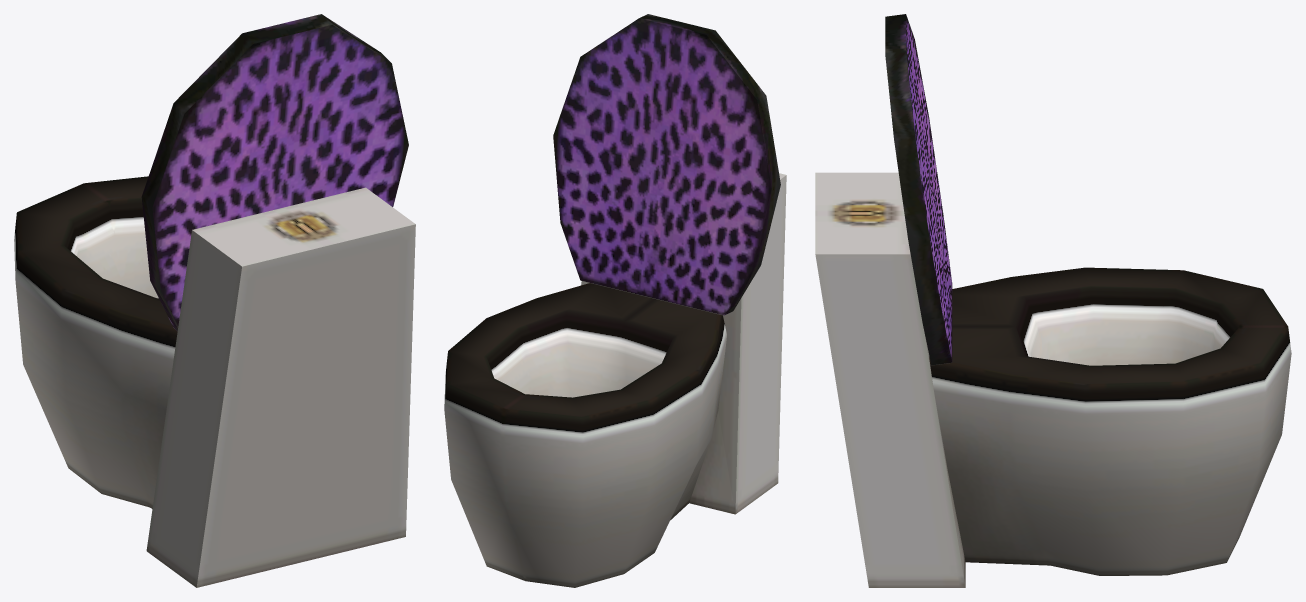
File: furni_0200084_03.FBX
3 views of the same model, side by side, from view 1: azimuth 30°, elevation 25°; view 2: azimuth 150°, elevation 25°; view 3: azimuth 270°, elevation 25° (orthographic). The views are drawn at different scales.
Visible parts, largest first — view 1: furni_0200084_03; view 2: furni_0200084_03; view 3: furni_0200084_03.
Boxes of the visible parts, <box> form: furni_0200084_03: <box>14,14,415,587</box>; furni_0200084_03: <box>444,14,786,587</box>; furni_0200084_03: <box>815,14,1291,587</box>.
Size of the model in its own units: 54.1 by 106 by 90.2.
1 material, 1 textured.
